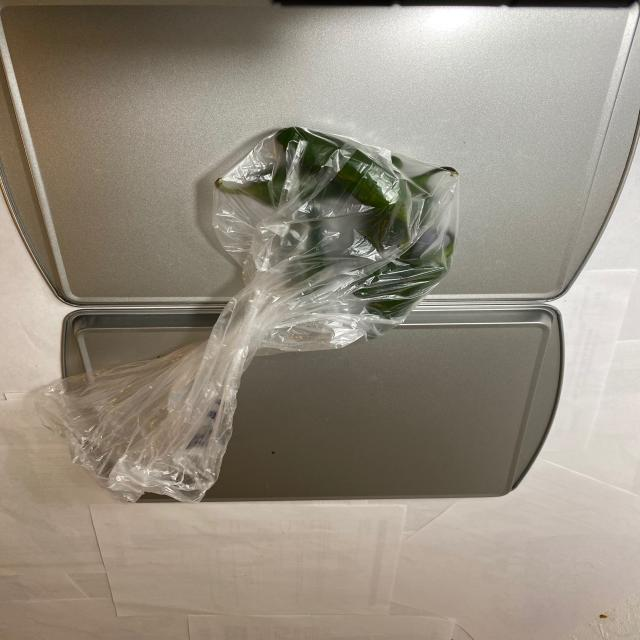chilli: (209, 128, 462, 332)
